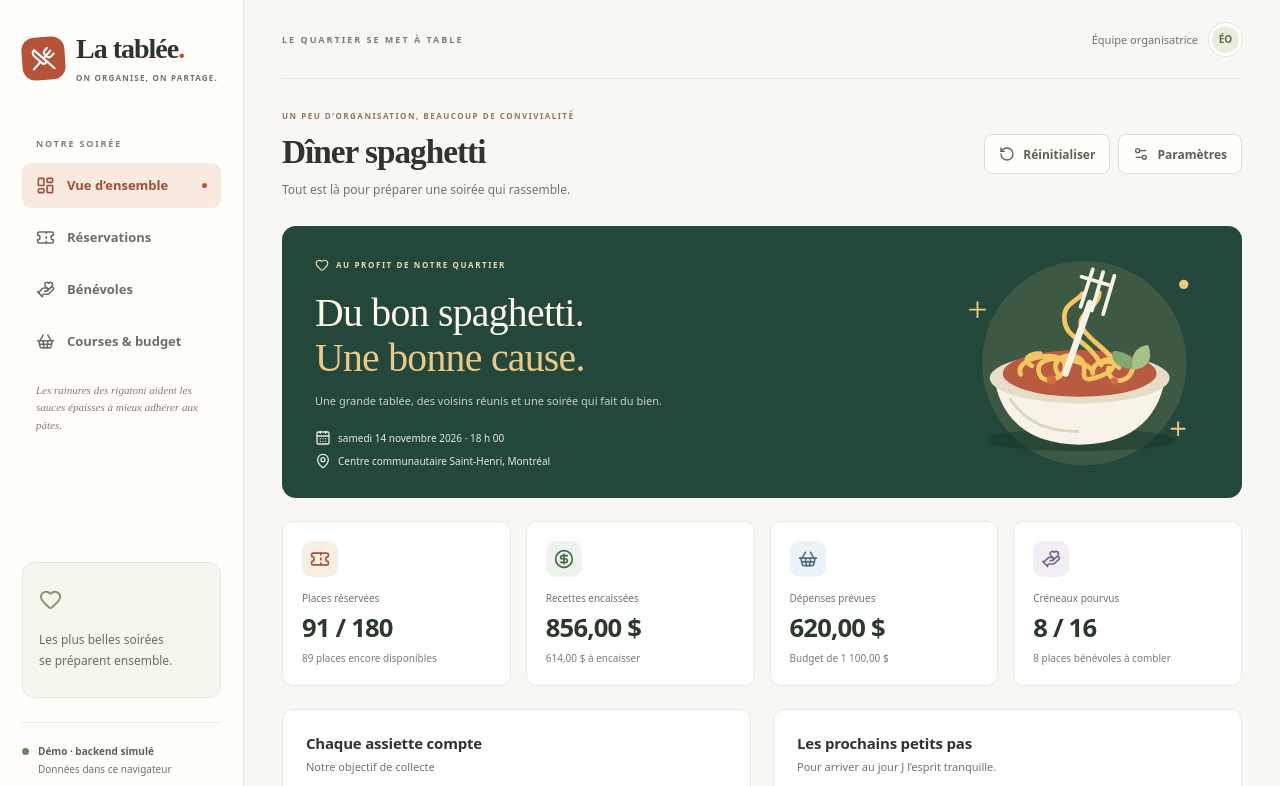
Test: organizer interface › resets modified demo data after confirmation
expect the heading "Du bon spaghetti.Une bonne cause." is shown: met, box 315,291 -> 585,380
expect the text "91 / 180" is shown: met, box 302,610 -> 393,645
Click the button "Réinitialiser".
click(1047, 154)  # box 984,134 -> 1110,174
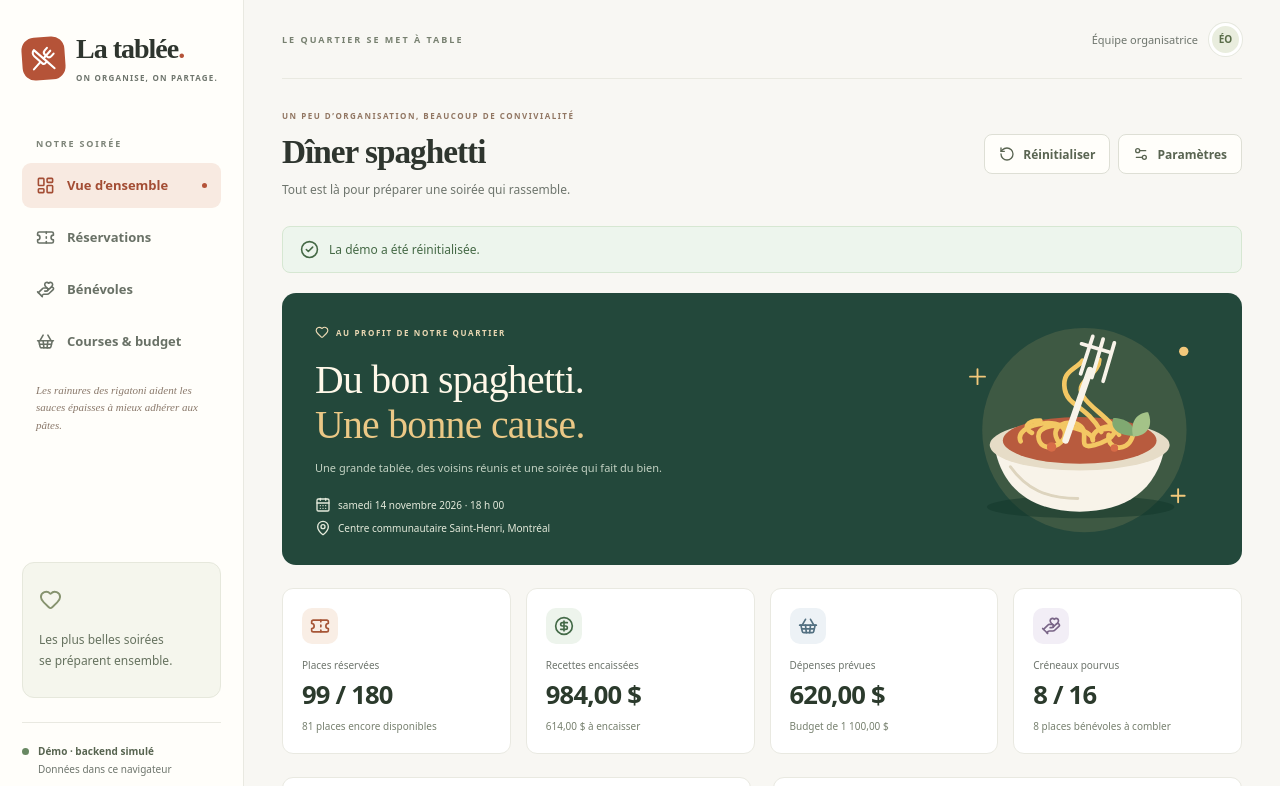
expect the text "99 / 180" is shown: met, box 302,677 -> 393,712
expect the message reads "La démo a été réinitialisée.": met, box 329,241 -> 480,258
